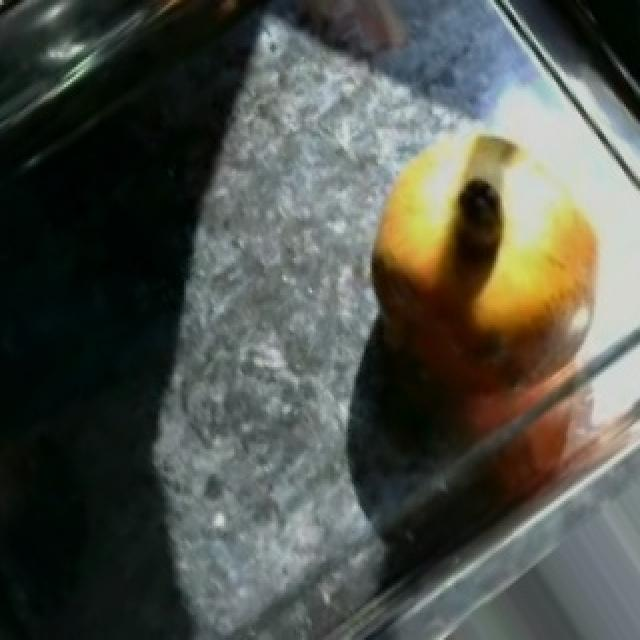fruit: (334, 96, 636, 374)
